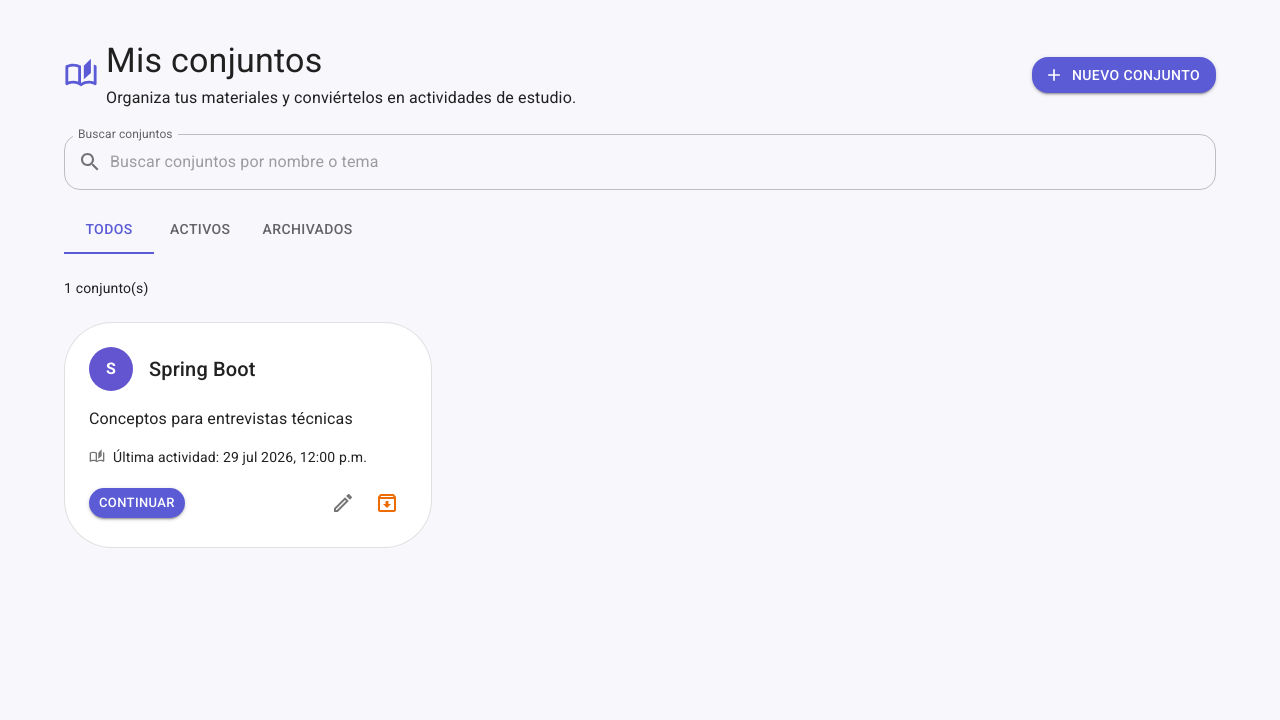
Test: DecksPage › requests confirmation before archiving
Expected: the heading "Spring Boot" is shown, [149,353,256,385]
Step 1. Click the button named "Archivar Spring Boot" → (387, 503), box [367,483,407,523]
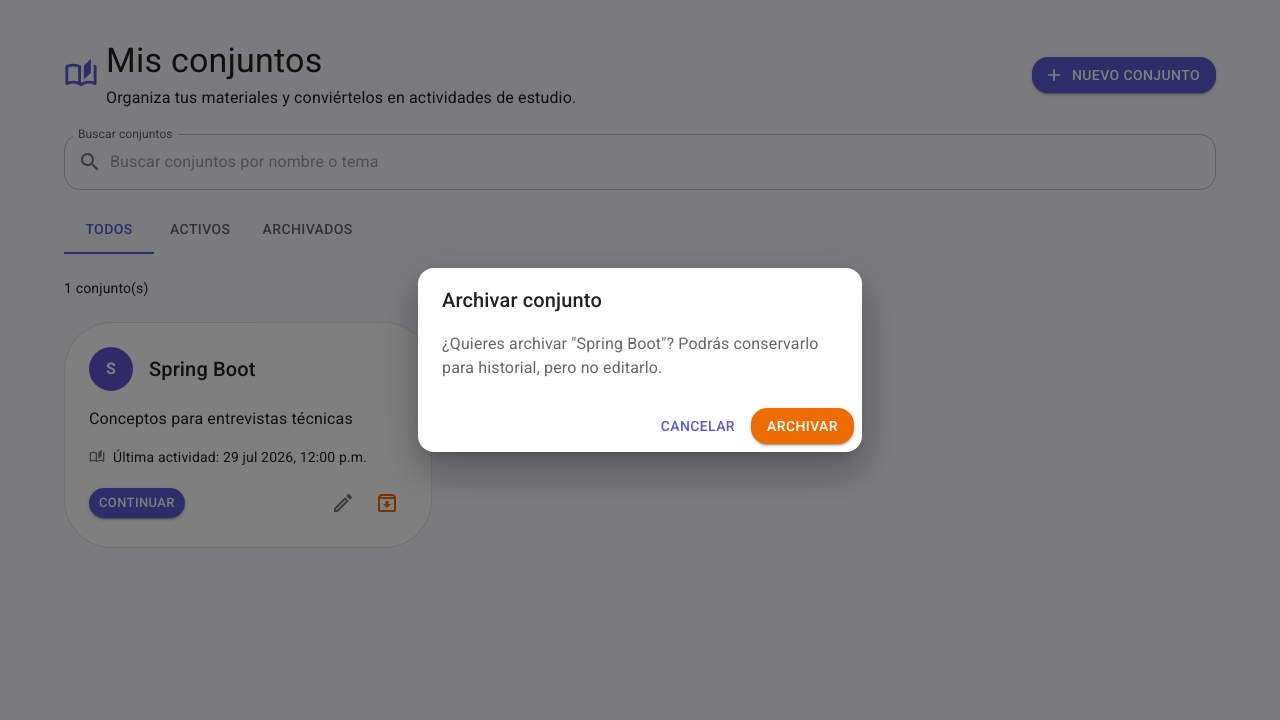
Expected: the dialog "Archivar conjunto" is shown, [418,268,862,452]
Expected: the text "¿Quieres archivar \"Spring Boot\"" is shown, [442,334,819,377]
